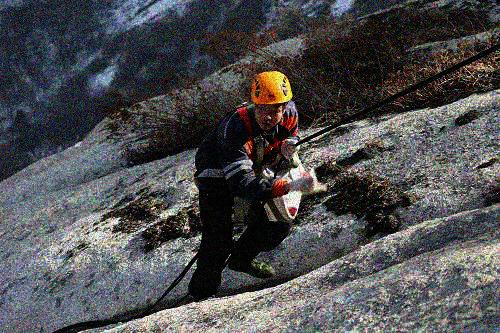helmet: (249, 70, 294, 135)
